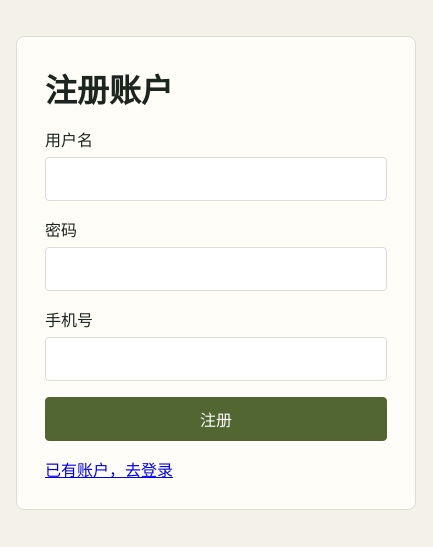
Test case: authentication pages › reports registration failures from the repository
Type "user_demo" into the field named "username".
click(216, 179); type("user_demo")  # box x1=45 y1=157 x2=387 y2=201
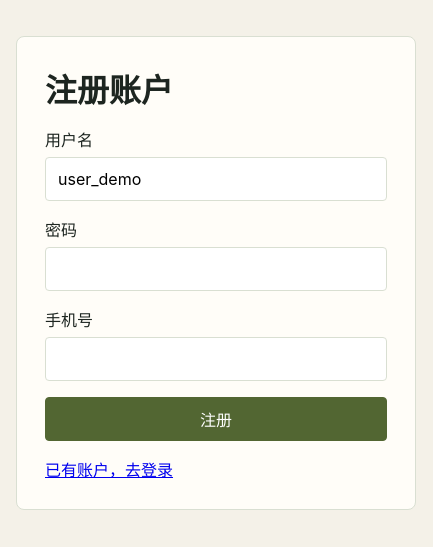
Type "Demo123!" into the password field named "password".
click(216, 269); type("Demo123!")  # box x1=45 y1=247 x2=387 y2=291
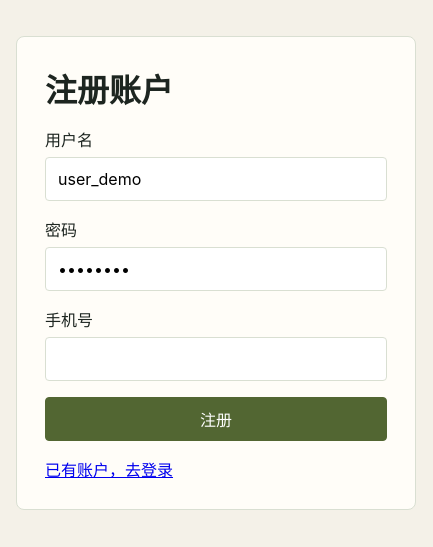
Type "13800138000" into the field named "phone".
click(216, 359); type("13800138000")  # box x1=45 y1=337 x2=387 y2=381
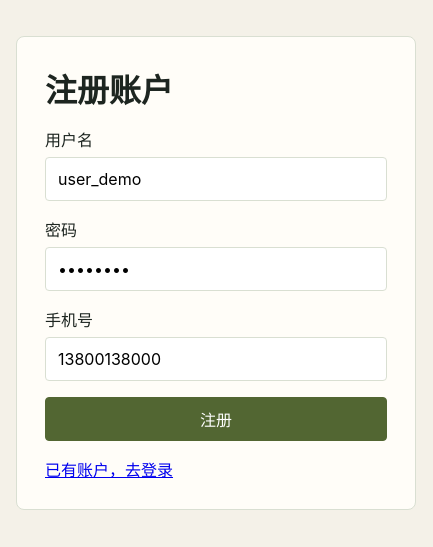
Submit the form
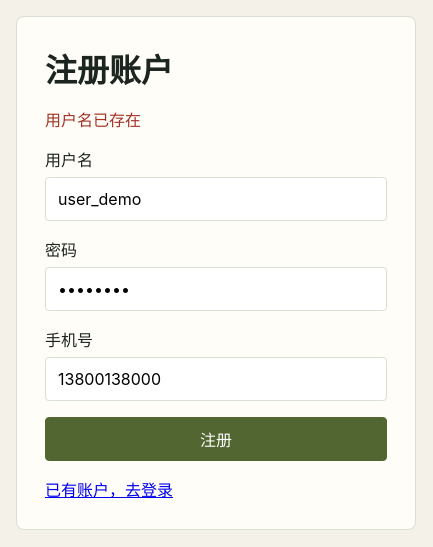
Check: the message "用户名已存在" is shown, box x1=45 y1=110 x2=141 y2=130
